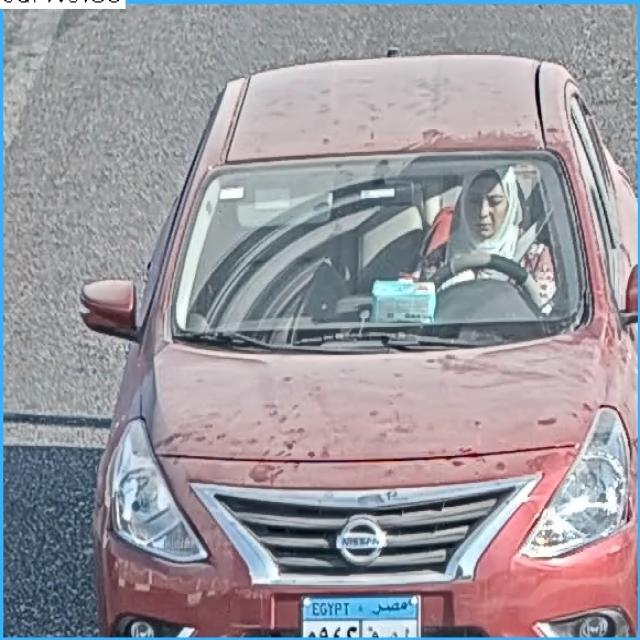windshield: (180, 157, 580, 344)
